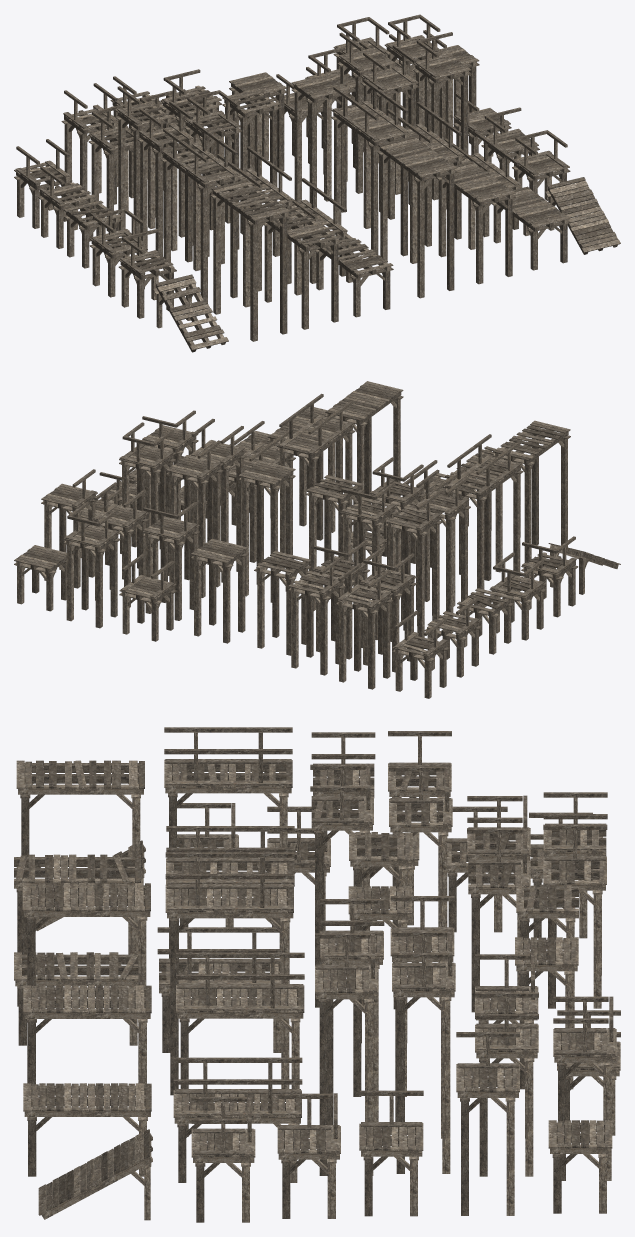
The picture shows the model from 3 angles, top to bottom: view 1: azimuth 30°, elevation 25°; view 2: azimuth 150°, elevation 25°; view 3: azimuth 270°, elevation 25°; orthographic projection. The views are drawn at different scales.
Visible parts, largest first — view 1: Wooden_bridge-material (×40); view 2: Wooden_bridge-material (×40); view 3: Wooden_bridge-material (×42).
Boxes of the visible parts, box(x1,y1,x2,y2) form: Wooden_bridge-material (×40): box(14, 14, 620, 352); Wooden_bridge-material (×40): box(14, 381, 620, 698); Wooden_bridge-material (×42): box(14, 727, 620, 1222).
Size of the model in its own units: 13.88 by 4.56 by 11.11.
Materials: 1 (1 with a texture image).
